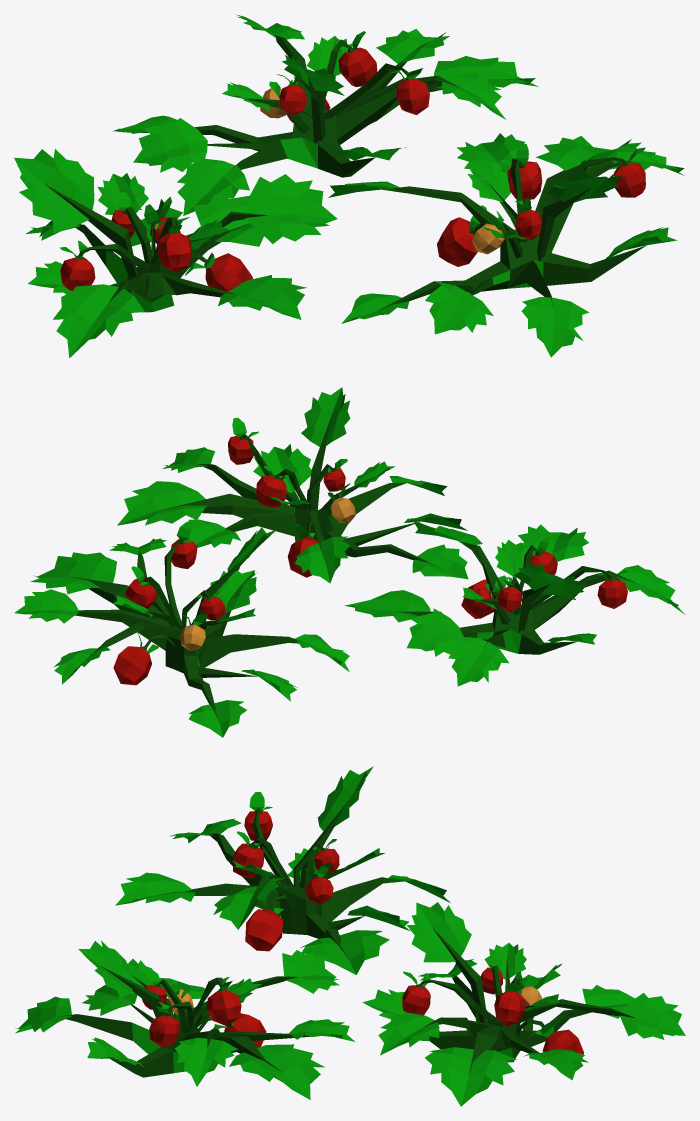
Rendered from strawberry.glb.
3 views of the same model, one above another, from view 1: azimuth 30°, elevation 25°; view 2: azimuth 150°, elevation 25°; view 3: azimuth 270°, elevation 25° (orthographic). The views are drawn at different scales.
Parts seen in each view (by area): view 1: strawberry_3; view 2: strawberry_3; view 3: strawberry_3.
Boxes of the visible parts, left/top/right/bottom form: strawberry_3: left=14, top=14, right=684, bottom=357; strawberry_3: left=14, top=387, right=685, bottom=737; strawberry_3: left=15, top=766, right=685, bottom=1106.
Bounding box in the file's own units: 3.17 × 0.7499 × 3.33.
